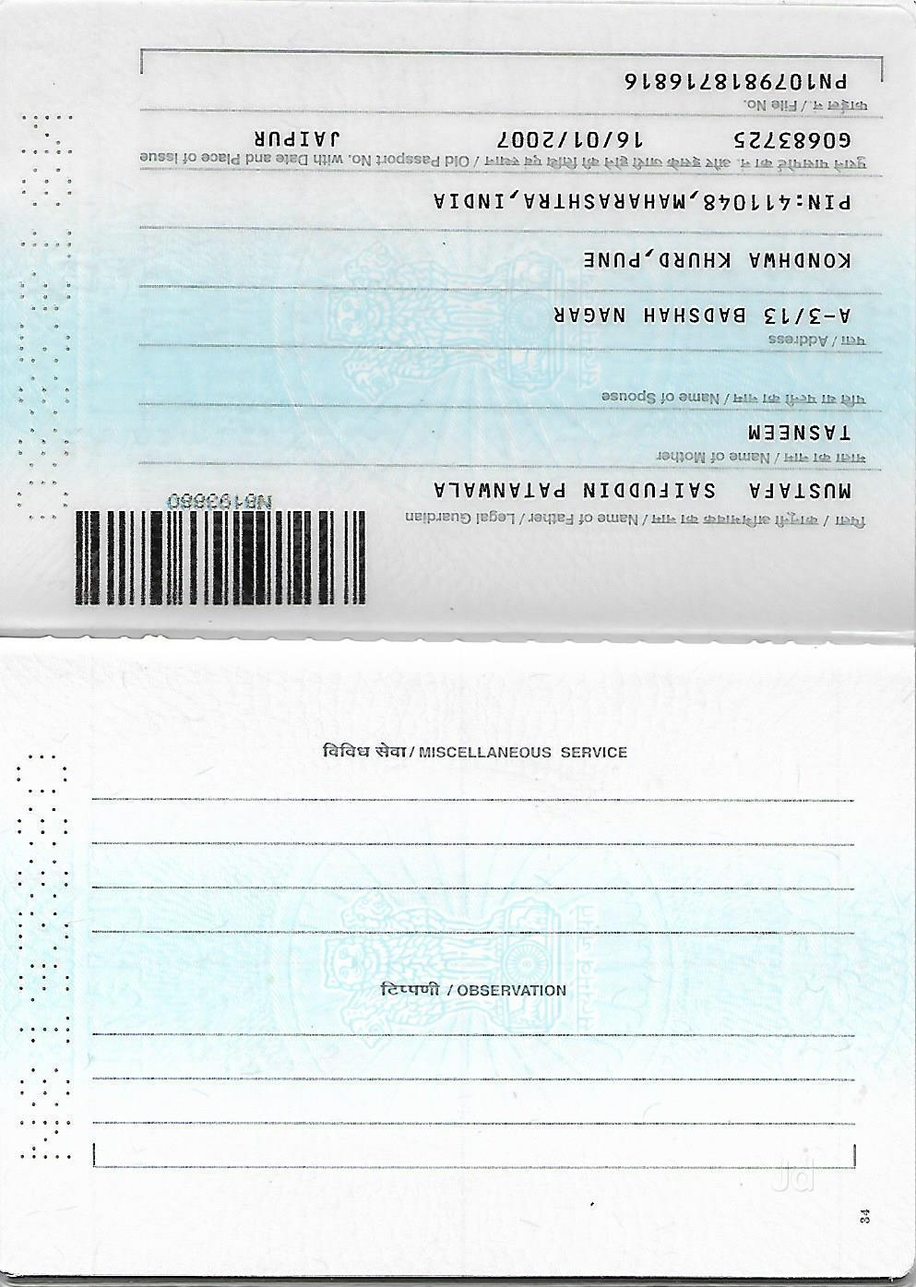File_no: (615, 66, 864, 98)
address: (413, 179, 882, 333)
father_name: (422, 468, 870, 510)
mother_name: (731, 415, 863, 449)
old_passport_details: (240, 118, 872, 156)
passport_no: (157, 485, 284, 509)
